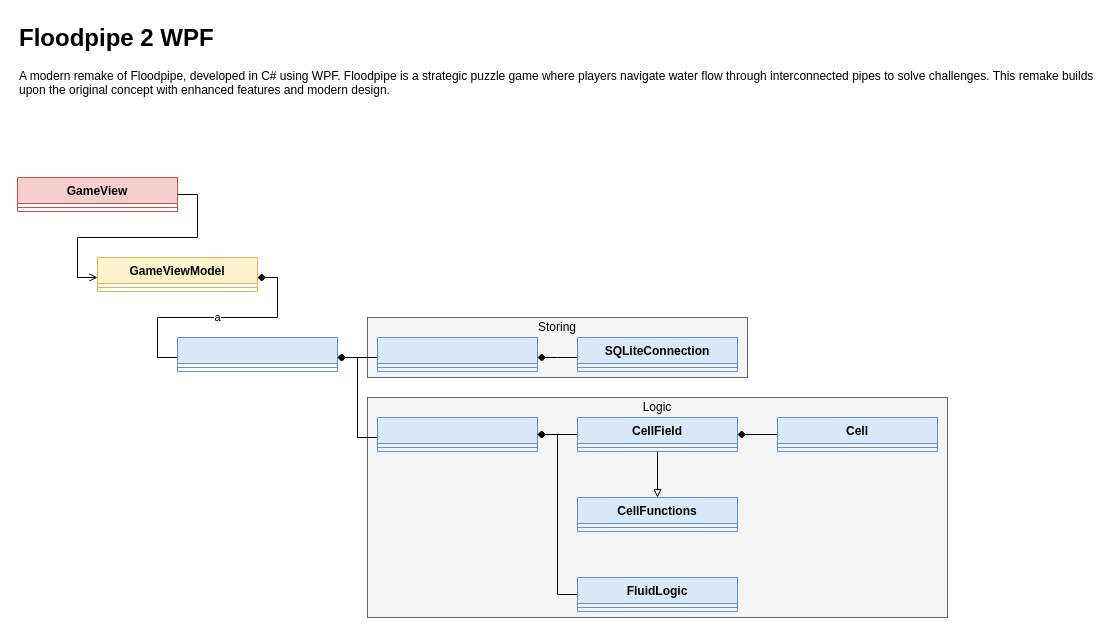
Image size: 1115x635. Some labels were removed from this diagram. Here are the shapes that lost their labels. From the top down, the centre of each, then its label:
At (x=257, y=354): "GameEngine".
At (x=457, y=354): "FileStorageHandler".
At (x=457, y=434): "GameField".
